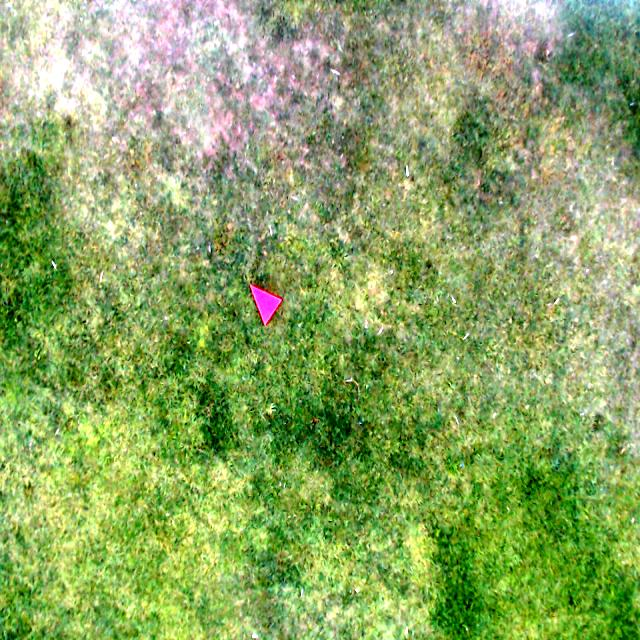red_triangle: (250, 283, 284, 326)
